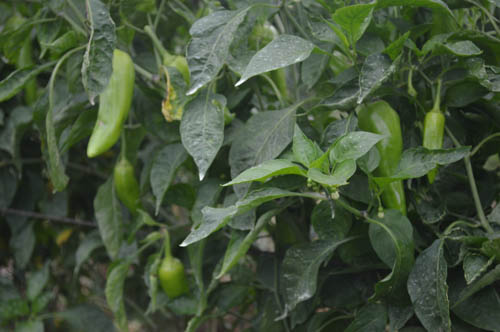ChiliPepper: (87, 48, 138, 161), (364, 102, 409, 215), (418, 110, 448, 180), (113, 159, 141, 213), (162, 263, 188, 297)
